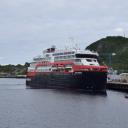cruises: (25, 36, 110, 94)
